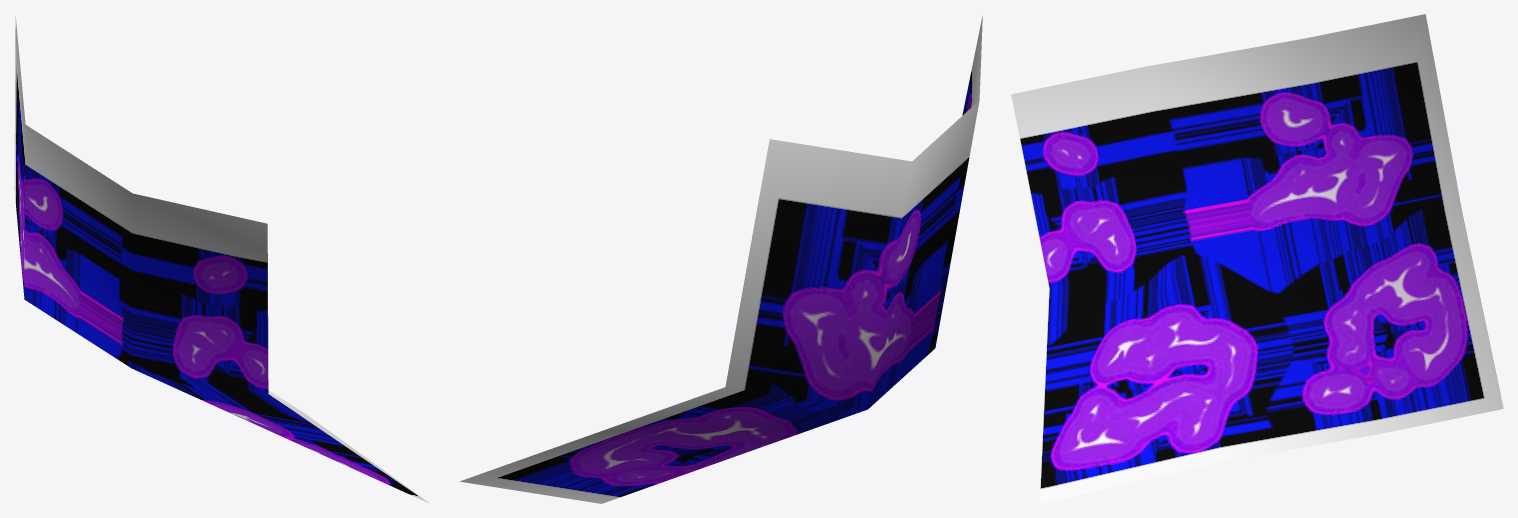
The model's file is eff_lightningbow_02.FBX.
The picture shows the model from 3 angles, left to right: view 1: azimuth 30°, elevation 25°; view 2: azimuth 150°, elevation 25°; view 3: azimuth 270°, elevation 25°; orthographic projection. The views are drawn at different scales.
Parts seen in each view (by area): view 1: eff_lightningbow_02; view 2: eff_lightningbow_02; view 3: eff_lightningbow_02.
Part boxes in pixels (bbox=[...]): eff_lightningbow_02: bbox=[14, 17, 429, 503]; eff_lightningbow_02: bbox=[459, 16, 982, 503]; eff_lightningbow_02: bbox=[1011, 14, 1503, 503].
Size of the model in its own units: 0.5519 by 0.7776 by 0.8968.
